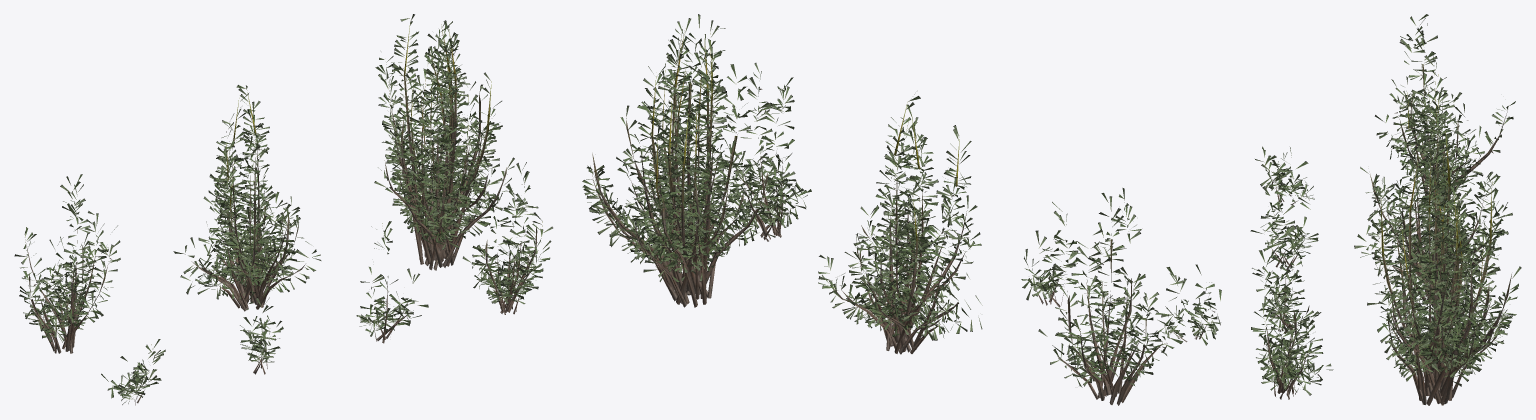
Rendered from othonna_cerarioides_2k.glb.
3 views of the same model, side by side, from view 1: azimuth 30°, elevation 25°; view 2: azimuth 150°, elevation 25°; view 3: azimuth 270°, elevation 25° (orthographic). The views are drawn at different scales.
Parts seen in each view (by area): view 1: othonna_cerarioides_a; view 2: othonna_cerarioides_a; view 3: othonna_cerarioides_a.
Boxes of the visible parts, x1,y1,x2,y2 form: othonna_cerarioides_a: [14, 14, 552, 405]; othonna_cerarioides_a: [582, 14, 1221, 405]; othonna_cerarioides_a: [1250, 14, 1521, 405].
Bounding box in the file's own units: 3.97 × 1.97 × 1.8.
2 materials, 2 textured.
